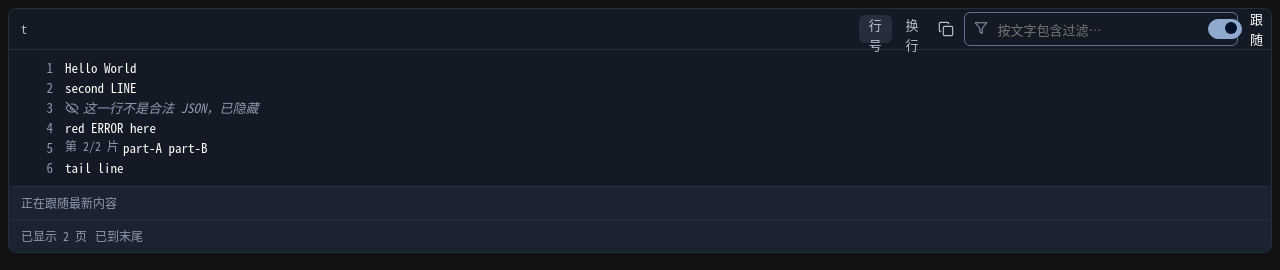
Test case: LogFollow 过滤 › 一行也没有时显示「没有匹配的行」；已显示 N 页不变
(page scrolled)
Type "zzz-no-such" into the field with class "tt-log__filter-input" at (1101,29), box [964,12,1238,46]
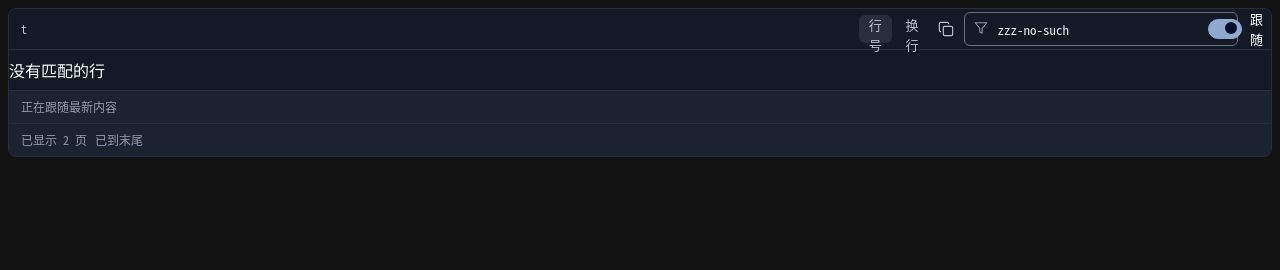
Expected: the element with class "tt-viewer__foot" shows "已显示 2 页", [21,131,87,148]
Now the text "没有匹配的行" is shown, box [9,63,105,80]
Clear the field with class "tt-log__filter-input" at (1101,29), box [964,12,1238,46]
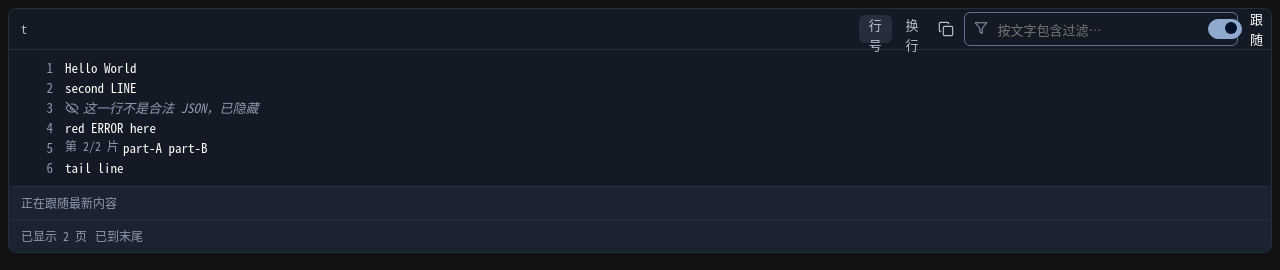
Now the text with class "tt-log" no longer shows "没有匹配的行"
